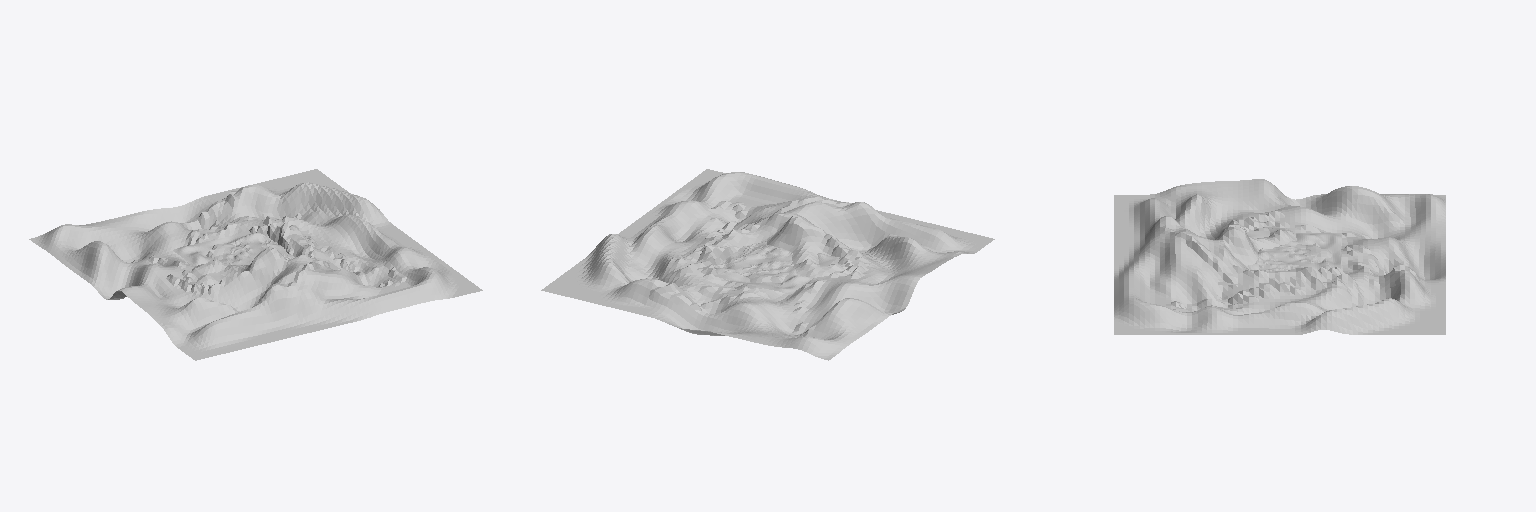
Rendered from level2.obj.
3 views of the same model, side by side, from view 1: azimuth 30°, elevation 25°; view 2: azimuth 150°, elevation 25°; view 3: azimuth 270°, elevation 25° (orthographic).
Parts seen in each view (by area): view 1: Plane.001, Plane; view 2: Plane.001, Plane; view 3: Plane.001, Plane.
Part boxes in pixels (x1,y1,x2,y2): Plane.001: (29, 169, 482, 360); Plane: (173, 231, 339, 282); Plane.001: (541, 169, 994, 360); Plane: (714, 224, 839, 294); Plane.001: (1114, 179, 1445, 334); Plane: (1218, 231, 1341, 284).
Bounding box in the file's own units: 201 × 34.04 × 201.